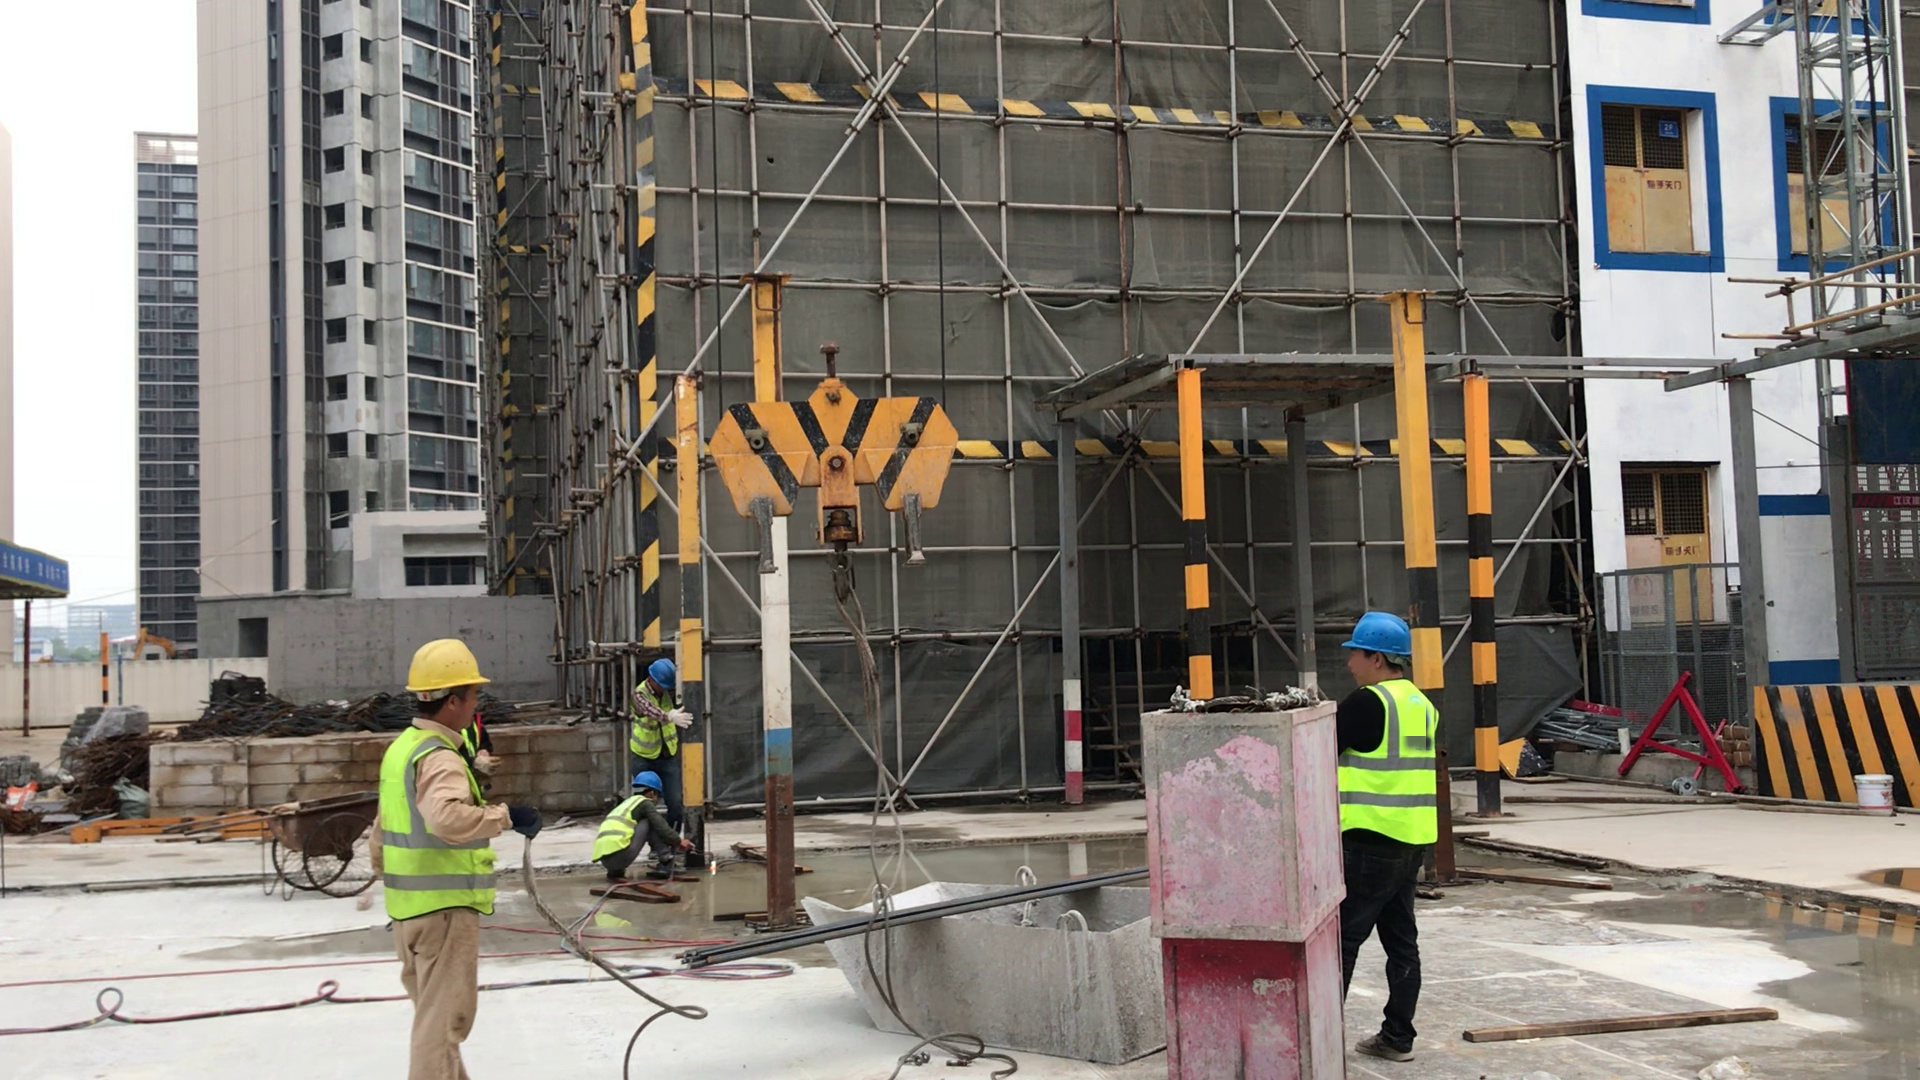handcart: (221, 785, 377, 907)
helmet: (394, 634, 500, 699), (1343, 606, 1427, 662), (644, 651, 685, 696), (625, 764, 669, 796)
hook: (675, 328, 1030, 627)
hopper: (800, 839, 1170, 1080)
person: (375, 638, 542, 1080), (1328, 606, 1467, 1068), (586, 768, 697, 897), (619, 651, 700, 787)
rebar: (676, 864, 1150, 973)
slogan: (1, 537, 79, 608)
vest: (369, 722, 505, 927), (1335, 683, 1456, 860), (620, 688, 685, 770), (590, 792, 648, 873)
